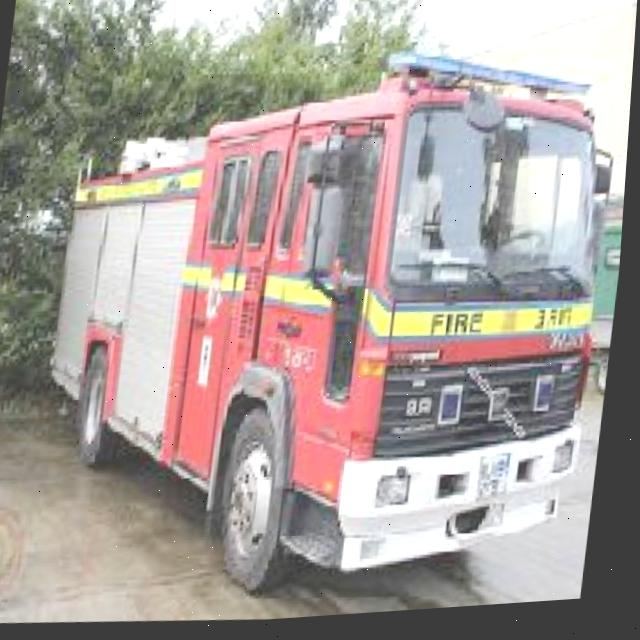emergency: (26, 24, 637, 626)
